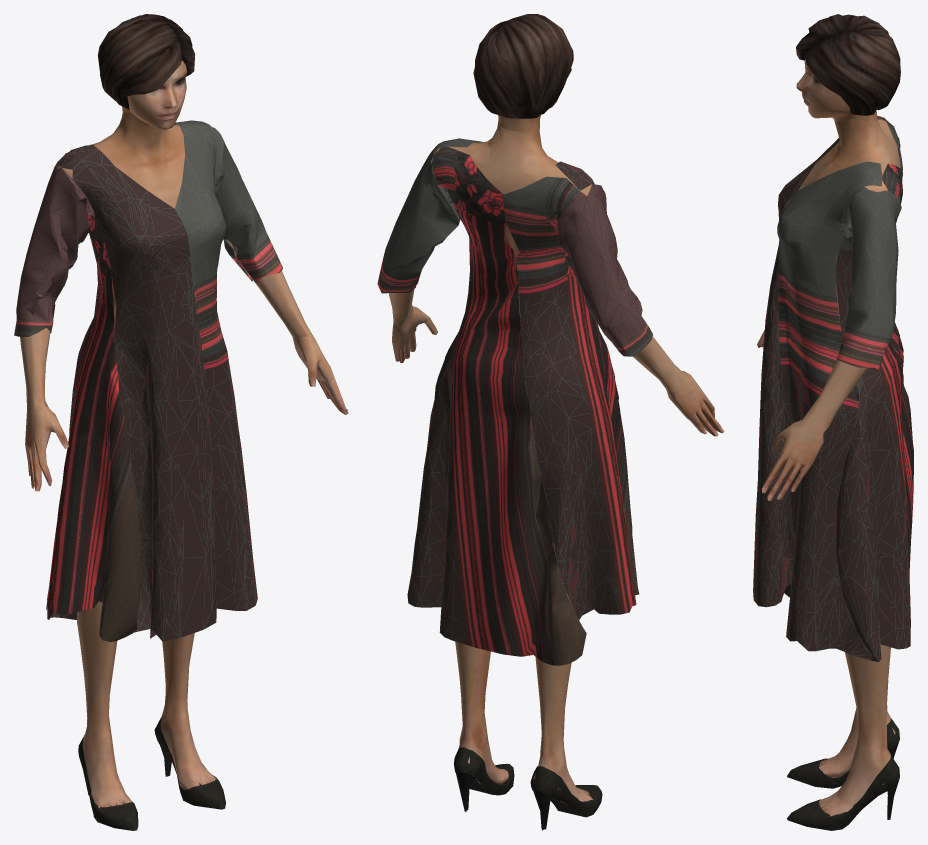
File: female_floral.glb
3 renders of one model, left to right at view 1: azimuth 30°, elevation 25°; view 2: azimuth 150°, elevation 25°; view 3: azimuth 270°, elevation 25°, orthographic.
Visible parts, largest first — view 1: female_floral; view 2: female_floral; view 3: female_floral.
Part boxes in pixels (left/top/right/bottom): female_floral: left=14, top=14, right=348, bottom=830; female_floral: left=377, top=14, right=724, bottom=830; female_floral: left=753, top=14, right=913, bottom=830.
Bounding box in the file's own units: 0.71 × 1.68 × 0.3123.
Materials: 2 (2 with a texture image).
